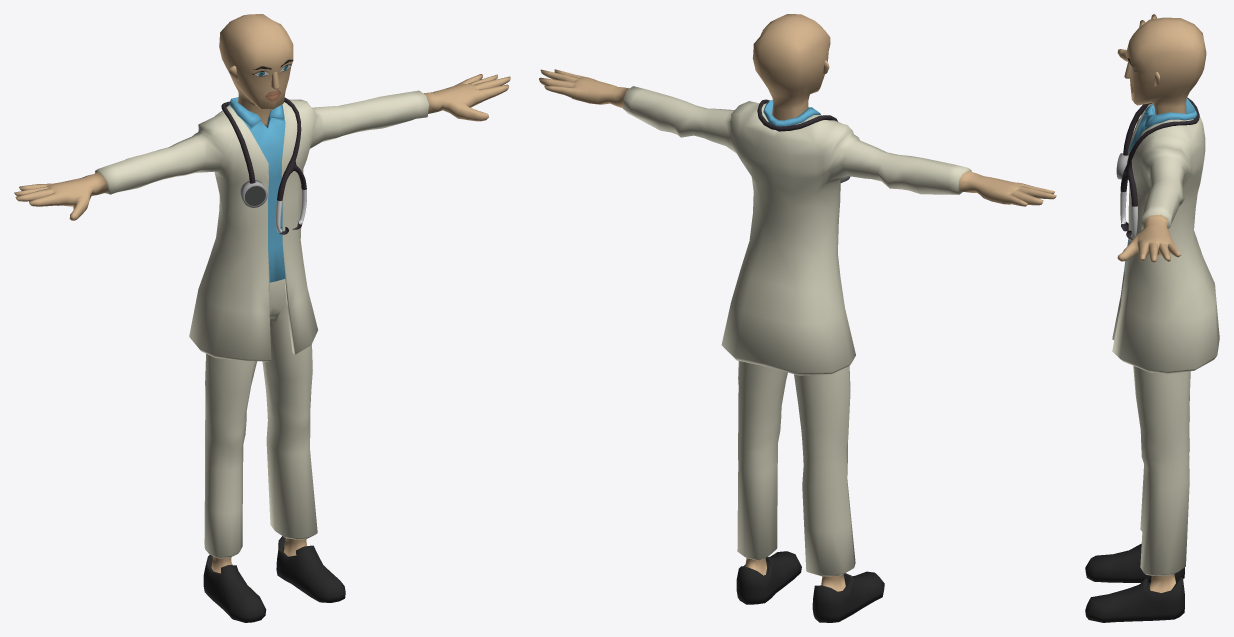
File: Low_Poly_Doctor.glb
3 renders of one model, left to right at view 1: azimuth 30°, elevation 25°; view 2: azimuth 150°, elevation 25°; view 3: azimuth 270°, elevation 25°, orthographic. The views are drawn at different scales.
Visible parts, largest first — view 1: Suit_Body_Suit_0, Suit_Legs_Suit_0, Suit_Head_Skin_0, Suit_Feet_Black_0, Suit_Body_Skin_0, Suit_Body_White.001_0, Cube.001_black_0; view 2: Suit_Body_Suit_0, Suit_Legs_Suit_0, Suit_Head_Skin_0, Suit_Feet_Black_0, Suit_Body_Skin_0; view 3: Suit_Body_Suit_0, Suit_Legs_Suit_0, Suit_Head_Skin_0, Suit_Feet_Black_0, Suit_Body_Skin_0, Cube.001_black_0, Suit_Body_White.001_0, Suit_Feet_Skin_0, Cube.001_White_0, Cube_darkGrey_0.
Boxes of the visible parts, bbox=[...] form: Suit_Body_Suit_0: bbox=[95, 90, 428, 361]; Suit_Legs_Suit_0: bbox=[204, 279, 317, 558]; Suit_Head_Skin_0: bbox=[219, 14, 293, 127]; Suit_Feet_Black_0: bbox=[203, 536, 345, 622]; Suit_Body_Skin_0: bbox=[14, 74, 510, 220]; Suit_Body_White.001_0: bbox=[229, 97, 285, 282]; Cube.001_black_0: bbox=[221, 97, 306, 234]; Suit_Body_Suit_0: bbox=[623, 86, 971, 375]; Suit_Legs_Suit_0: bbox=[737, 361, 855, 576]; Suit_Head_Skin_0: bbox=[752, 14, 830, 120]; Suit_Feet_Black_0: bbox=[736, 551, 884, 622]; Suit_Body_Skin_0: bbox=[539, 69, 1056, 206]; Suit_Body_Suit_0: bbox=[1112, 103, 1219, 373]; Suit_Legs_Suit_0: bbox=[1133, 366, 1190, 575]; Suit_Head_Skin_0: bbox=[1124, 17, 1206, 114]; Suit_Feet_Black_0: bbox=[1085, 543, 1184, 622]; Suit_Body_Skin_0: bbox=[1117, 14, 1180, 262]; Cube.001_black_0: bbox=[1120, 97, 1199, 239]; Suit_Body_White.001_0: bbox=[1124, 98, 1197, 273]; Suit_Feet_Skin_0: bbox=[1149, 574, 1175, 592]; Cube.001_White_0: bbox=[1120, 191, 1137, 238]; Cube_darkGrey_0: bbox=[1116, 153, 1128, 180].
Size of the model in its own units: 1.68 by 1.83 by 0.3875.
Materials: 8 (1 with a texture image).
